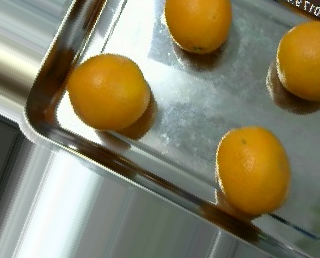Orange: (216, 126, 292, 214), (66, 52, 149, 131), (276, 20, 320, 100), (164, 1, 232, 52)
